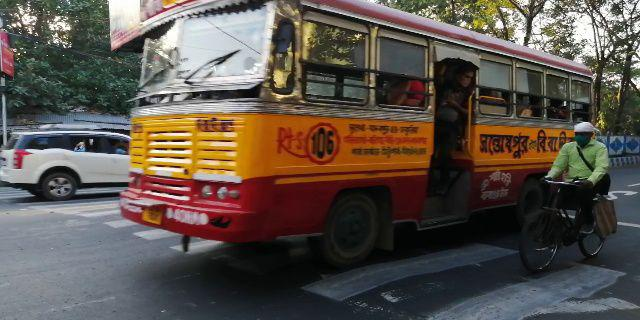Bus: (127, 1, 600, 262)
Car: (4, 130, 127, 200)
Cycle: (511, 120, 617, 277)
